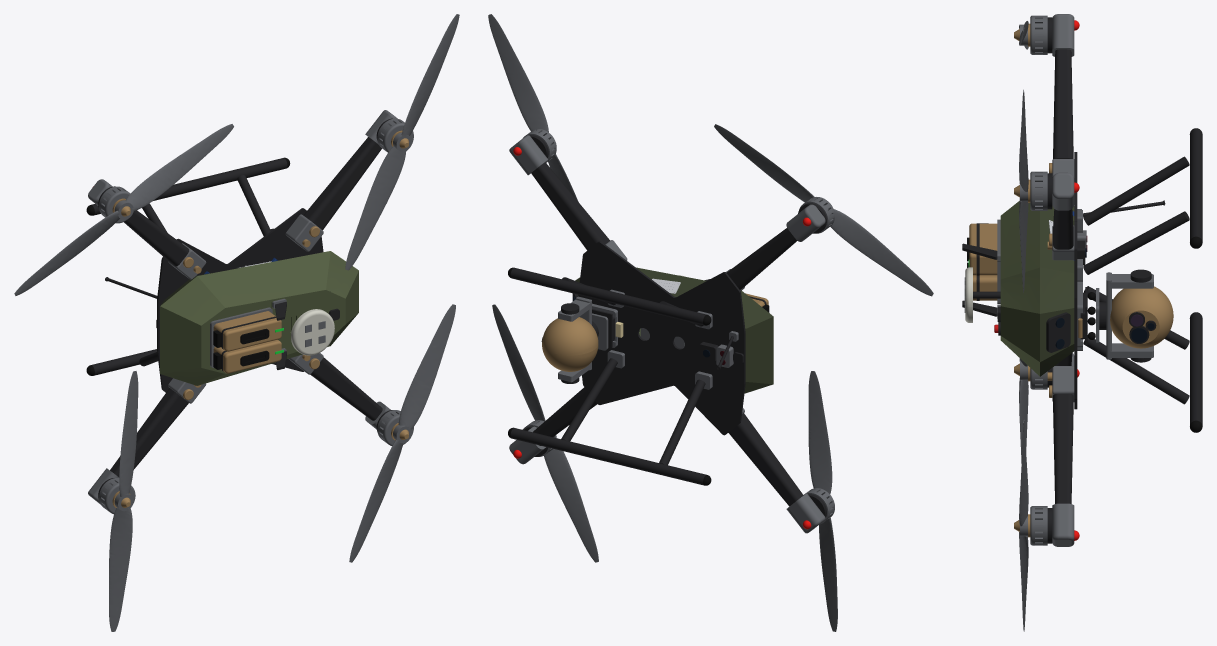
Rendered from isr4-quad.glb.
3 views of the same model, side by side, from view 1: azimuth 30°, elevation 25°; view 2: azimuth 150°, elevation 25°; view 3: azimuth 270°, elevation 25° (orthographic). The views are drawn at different scales.
Parts seen in each view (by area): view 1: AFR-120 Upper Canopy, PRP-310 22in Propeller FL, PRP-313 22in Propeller FR, PRP-311 22in Propeller RL, PRP-312 22in Propeller RR, AFR-101 Frame Plate, ARM-240 Carbon Arm FL, ARM-242 Carbon Arm RR, ARM-243 Carbon Arm FR, LDG-971 Skid Tube L, BAT-710A Smart Battery 11Ah A, COM-811 CRPA Anti-Jam GNSS Antenna (+5 smaller); view 2: AFR-101 Frame Plate, PRP-312 22in Propeller RR, PRP-311 22in Propeller RL, PRP-313 22in Propeller FR, AFR-110 Lower Hull, PRP-310 22in Propeller FL, PLD-940 Sensor Ball, LDG-972 Skid Tube R, LDG-971 Skid Tube L, ARM-240 Carbon Arm FL, ARM-242 Carbon Arm RR, ARM-241 Carbon Arm RL (+7 smaller); view 3: AFR-120 Upper Canopy, AFR-110 Lower Hull, PLD-940 Sensor Ball, ARM-243 Carbon Arm FR, ARM-241 Carbon Arm RL, PLD-930 Gimbal Yoke, LDG-971 Skid Tube L, LDG-972 Skid Tube R, PRP-313 22in Propeller FR, PRP-310 22in Propeller FL, LDG-962 Strut 2, LDG-961 Strut 1 (+17 smaller).
Part boxes in pixels (left/top/right/bottom): AFR-120 Upper Canopy: left=160, top=251, right=358, bottom=385; PRP-310 22in Propeller FL: left=345, top=14, right=459, bottom=270; PRP-313 22in Propeller FR: left=349, top=304, right=455, bottom=562; PRP-311 22in Propeller RL: left=14, top=124, right=233, bottom=295; PRP-312 22in Propeller RR: left=109, top=371, right=138, bottom=631; AFR-101 Frame Plate: left=157, top=208, right=323, bottom=392; ARM-240 Carbon Arm FL: left=303, top=137, right=381, bottom=230; ARM-242 Carbon Arm RR: left=110, top=388, right=188, bottom=477; ARM-243 Carbon Arm FR: left=310, top=357, right=382, bottom=420; LDG-971 Skid Tube L: left=91, top=158, right=287, bottom=215; BAT-710A Smart Battery 11Ah A: left=213, top=311, right=281, bottom=351; COM-811 CRPA Anti-Jam GNSS Antenna: left=291, top=309, right=334, bottom=355; AFR-101 Frame Plate: left=578, top=241, right=745, bottom=435; PRP-312 22in Propeller RR: left=808, top=371, right=837, bottom=631; PRP-311 22in Propeller RL: left=714, top=124, right=933, bottom=296; PRP-313 22in Propeller FR: left=492, top=304, right=598, bottom=562; AFR-110 Lower Hull: left=575, top=267, right=773, bottom=393; PRP-310 22in Propeller FL: left=488, top=14, right=578, bottom=201; PLD-940 Sensor Ball: left=542, top=317, right=598, bottom=371; LDG-972 Skid Tube R: left=510, top=428, right=706, bottom=485; LDG-971 Skid Tube L: left=510, top=267, right=706, bottom=325; ARM-240 Carbon Arm FL: left=531, top=162, right=610, bottom=250; ARM-242 Carbon Arm RR: left=728, top=413, right=803, bottom=506; ARM-241 Carbon Arm RL: left=726, top=228, right=797, bottom=289; AFR-120 Upper Canopy: left=1000, top=201, right=1039, bottom=376; AFR-110 Lower Hull: left=1040, top=206, right=1074, bottom=376; PLD-940 Sensor Ball: left=1110, top=286, right=1173, bottom=348; ARM-243 Carbon Arm FR: left=1053, top=394, right=1073, bottom=503; ARM-241 Carbon Arm RL: left=1053, top=49, right=1073, bottom=158; PLD-930 Gimbal Yoke: left=1106, top=272, right=1153, bottom=359; LDG-971 Skid Tube L: left=1190, top=128, right=1202, bottom=241; LDG-972 Skid Tube R: left=1190, top=312, right=1202, bottom=425; PRP-313 22in Propeller FR: left=1019, top=420, right=1028, bottom=631; PRP-310 22in Propeller FL: left=1019, top=89, right=1028, bottom=292; LDG-962 Strut 2: left=1083, top=156, right=1189, bottom=225; LDG-961 Strut 1: left=1083, top=211, right=1189, bottom=274.
Size of what is drawn, in the model's own units: 1018 by 1167 by 414.
